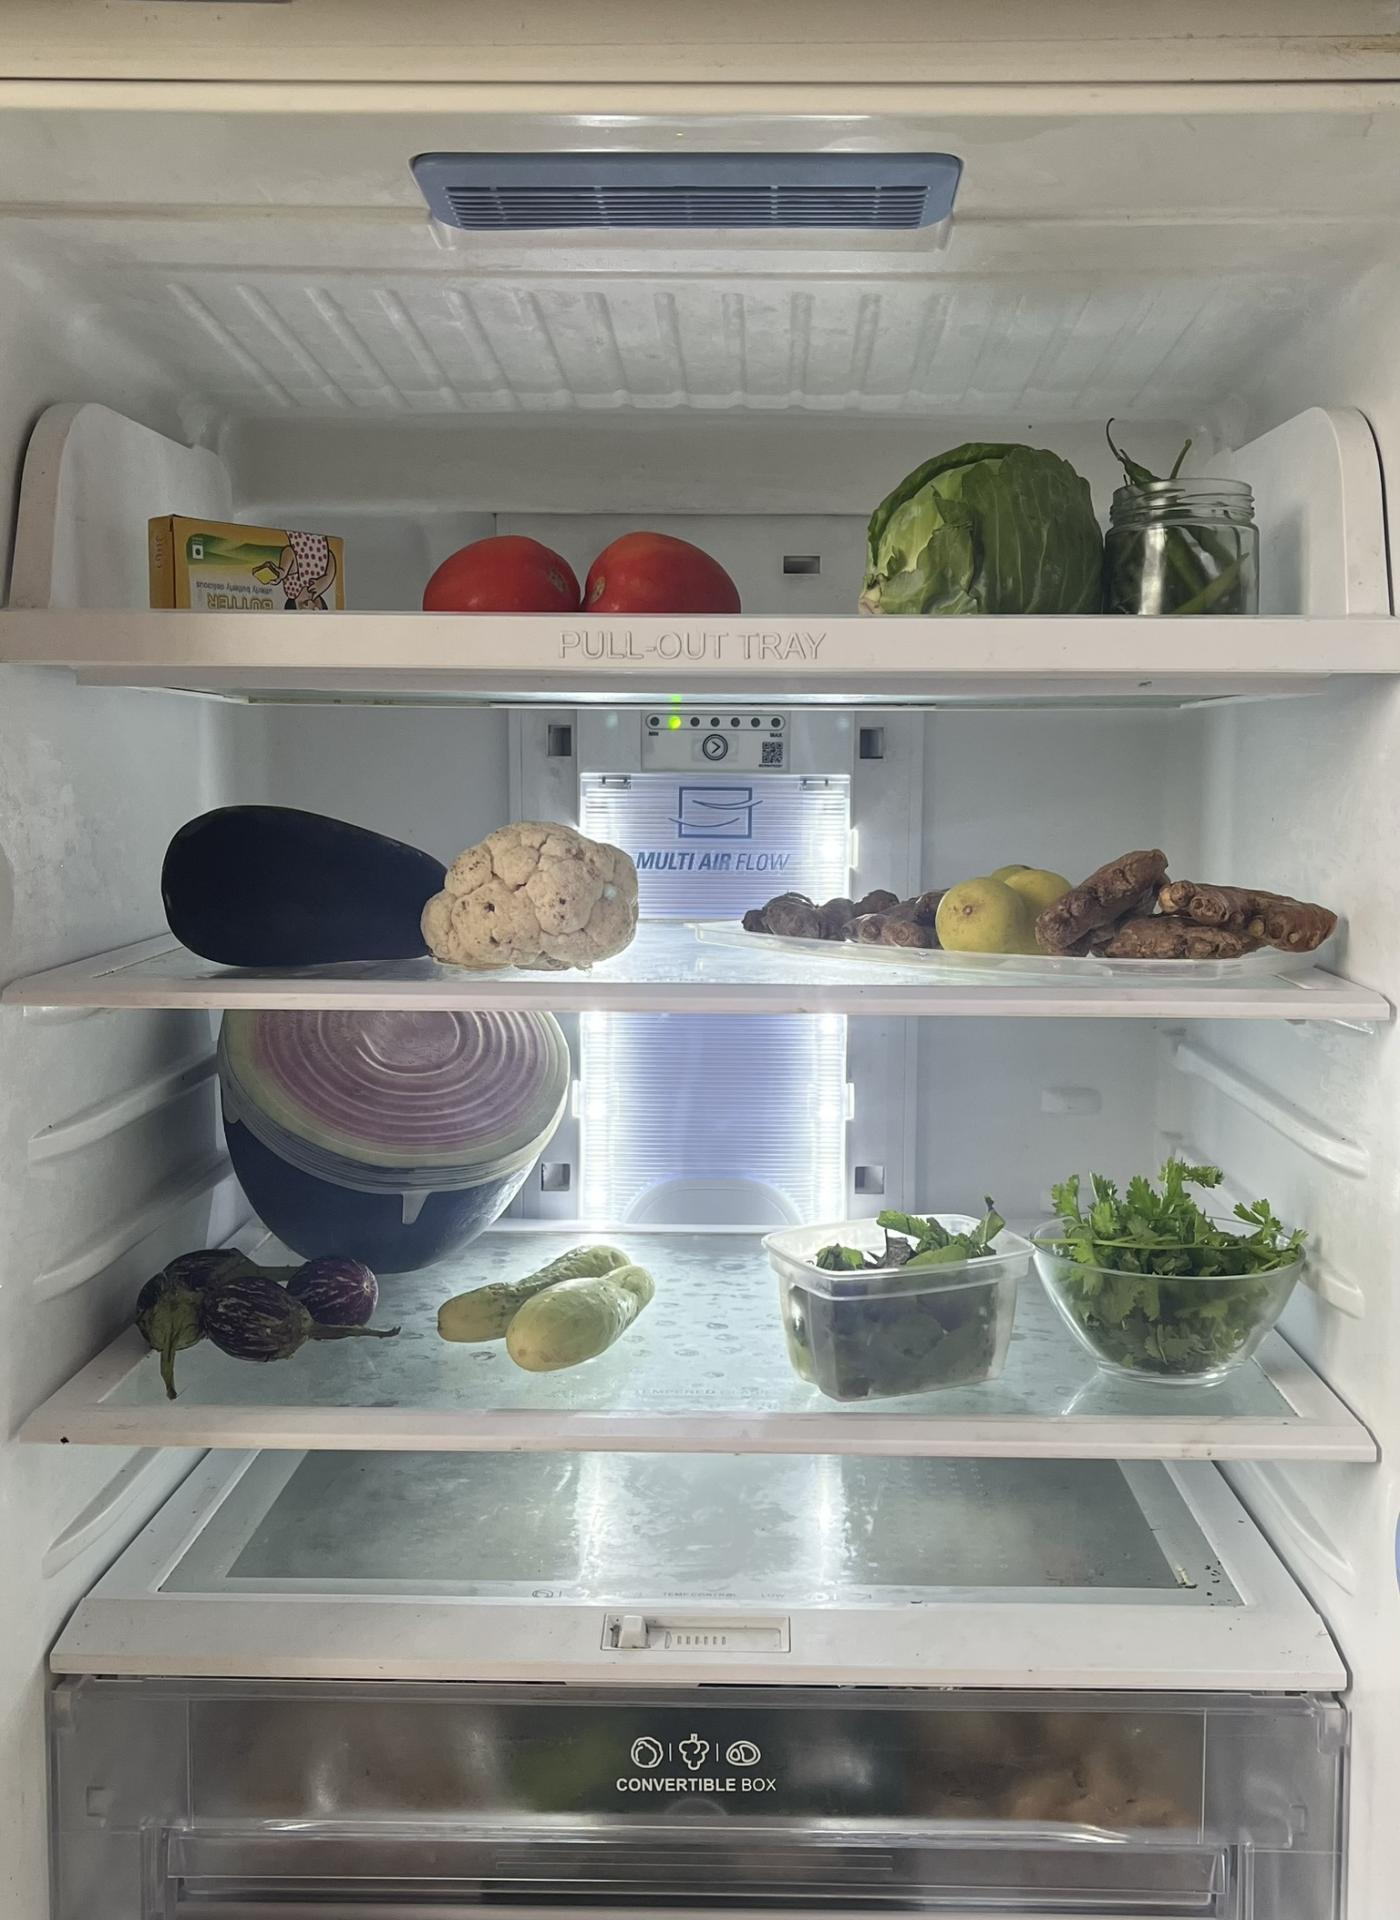basil: (762, 1196, 1011, 1391)
brinjal: (170, 805, 471, 966), (148, 1236, 388, 1358)
butter: (146, 496, 350, 613)
cabbage: (859, 438, 1108, 611)
cauliflower: (425, 821, 649, 972)
chillies: (1096, 428, 1258, 622)
coriander: (1041, 1167, 1312, 1386)
cucumber: (429, 1243, 660, 1376)
ginger: (1057, 853, 1334, 953), (740, 882, 947, 944)
lemon: (933, 860, 1057, 954)
tomato: (417, 531, 740, 619), (425, 526, 590, 610)
watermelon: (210, 1006, 574, 1273)
